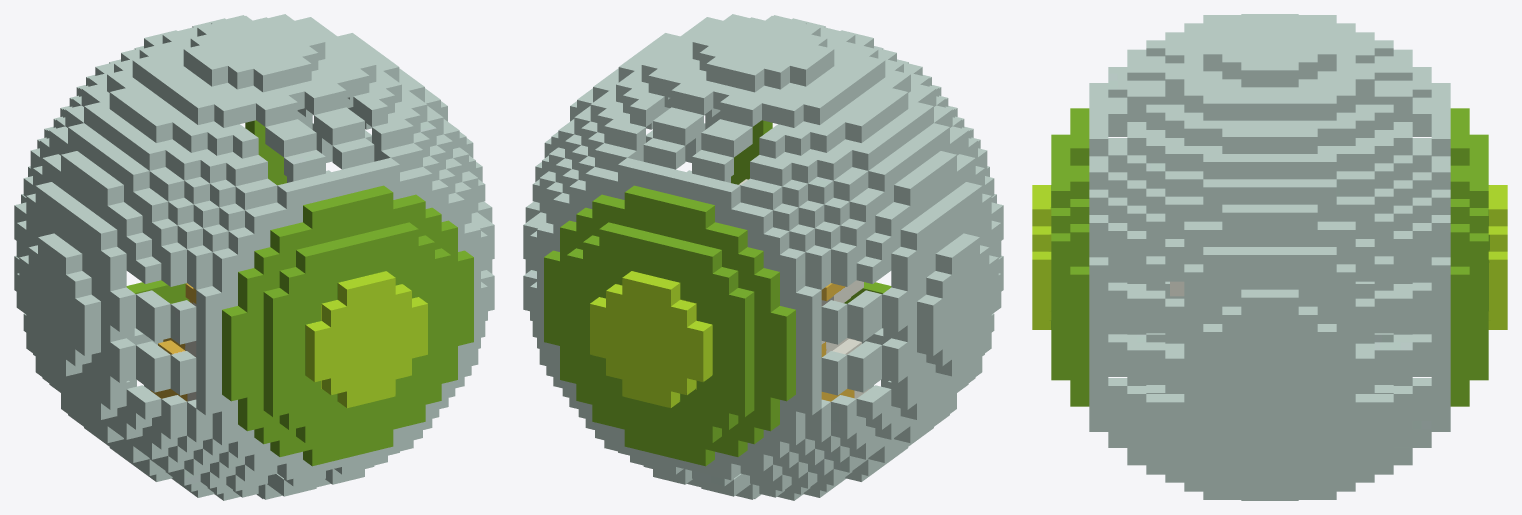
File: hamster.glb
The picture shows the model from 3 angles, left to right: view 1: azimuth 30°, elevation 25°; view 2: azimuth 150°, elevation 25°; view 3: azimuth 270°, elevation 25°; orthographic projection.
Visible parts, largest first — view 1: HamsterBall_Glass.001, Hamster Ball_Cap_Green.001, Hamster_Stand_Yellow; view 2: HamsterBall_Glass.001, Hamster Ball_Cap_Green.001, Hamster_Stand_Yellow; view 3: HamsterBall_Glass.001, Hamster Ball_Cap_Green.001.
Boxes of the visible parts, box(x1,y1,x2,y2) form: HamsterBall_Glass.001: box(14, 14, 494, 500); Hamster Ball_Cap_Green.001: box(126, 120, 473, 466); Hamster_Stand_Yellow: box(150, 283, 196, 401); HamsterBall_Glass.001: box(523, 14, 1003, 500); Hamster Ball_Cap_Green.001: box(544, 120, 891, 466); Hamster_Stand_Yellow: box(738, 179, 869, 401); HamsterBall_Glass.001: box(1089, 14, 1450, 500); Hamster Ball_Cap_Green.001: box(1032, 108, 1507, 406).
Size of the model in its own units: 2.5 by 2.5 by 2.5.
Materials: 3 (3 with a texture image).
